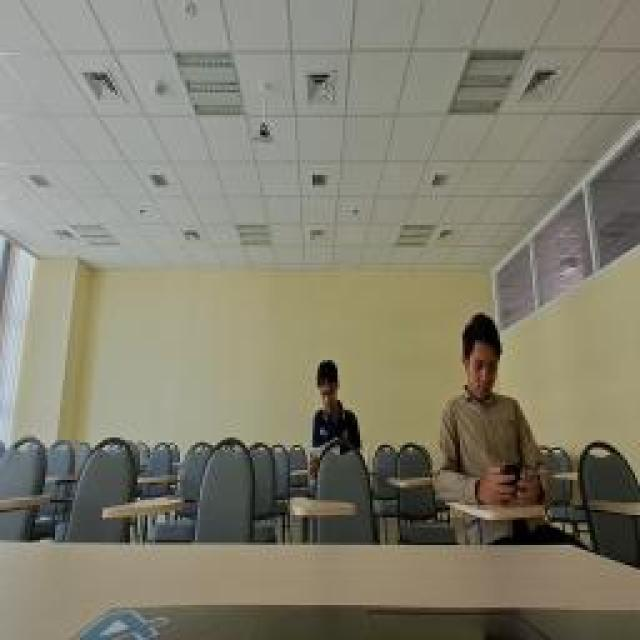phone: (435, 310, 555, 508)
study: (308, 355, 368, 503)
